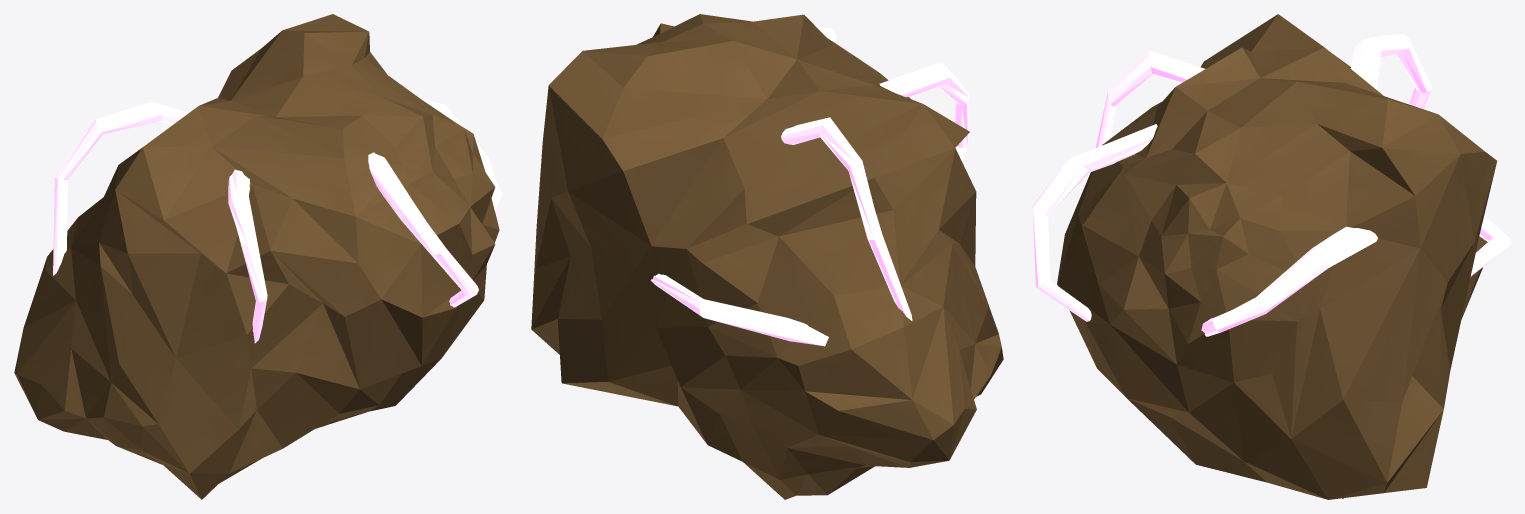
The model's file is Meteorite2.fbx.
The picture shows the model from 3 angles, left to right: view 1: azimuth 30°, elevation 25°; view 2: azimuth 150°, elevation 25°; view 3: azimuth 270°, elevation 25°; orthographic projection. The views are drawn at different scales.
Visible parts, largest first — view 1: Sphere.006, Cylinder.014; view 2: Sphere.006, Cylinder.014; view 3: Sphere.006, Cylinder.014.
Boxes of the visible parts, bbox=[...] form: Sphere.006: bbox=[14, 14, 499, 499]; Cylinder.014: bbox=[53, 99, 502, 343]; Sphere.006: bbox=[531, 14, 1003, 499]; Cylinder.014: bbox=[650, 27, 969, 346]; Sphere.006: bbox=[1057, 14, 1496, 499]; Cylinder.014: bbox=[1032, 34, 1510, 336].
Bounding box in the file's own units: 1.36 × 1.25 × 1.17.
